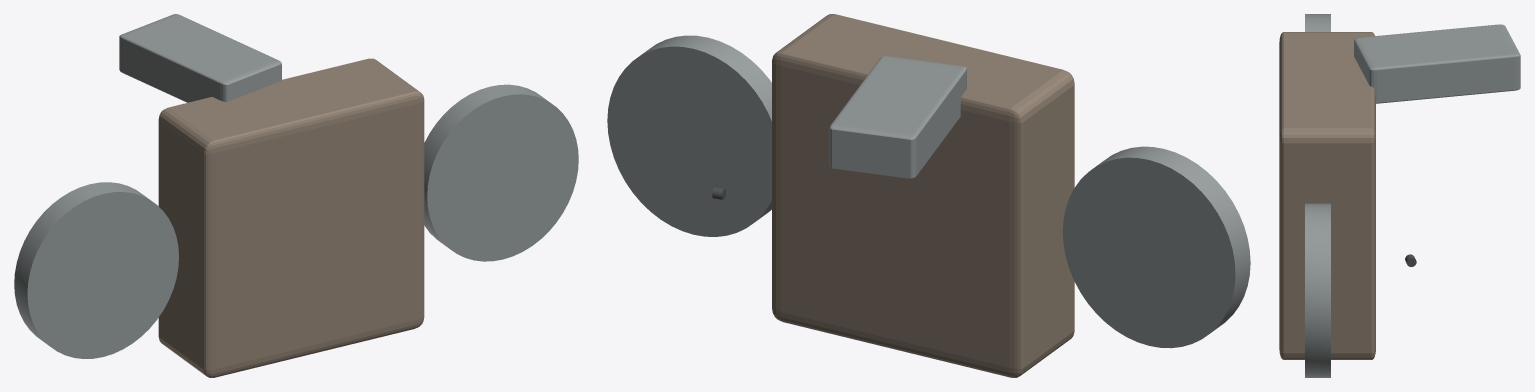
The model's file is d-u28-dominion-repair-drone-lod2.glb.
The picture shows the model from 3 angles, left to right: view 1: azimuth 30°, elevation 25°; view 2: azimuth 150°, elevation 25°; view 3: azimuth 270°, elevation 25°; orthographic projection. The views are drawn at different scales.
Visible parts, largest first — view 1: drone_core, drone_fan_2, drone_fan_0, service_claw_1; view 2: drone_core, drone_fan_2, drone_fan_0, service_claw_1; view 3: drone_core, service_claw_1, drone_fan_0, drone_fan_2.
Part boxes in pixels (x1,y1,x2,y2): drone_core: [158, 58, 424, 377]; drone_fan_2: [14, 182, 178, 358]; drone_fan_0: [424, 84, 578, 261]; service_claw_1: [119, 14, 281, 102]; drone_core: [772, 14, 1074, 377]; drone_fan_2: [1062, 146, 1250, 348]; drone_fan_0: [607, 35, 771, 236]; service_claw_1: [829, 56, 966, 178]; drone_core: [1279, 32, 1375, 359]; service_claw_1: [1354, 24, 1520, 103]; drone_fan_0: [1305, 203, 1330, 377]; drone_fan_2: [1305, 14, 1330, 31].
Size of what is drawn, in the model's own units: 4.87 by 2.16 by 1.9.
